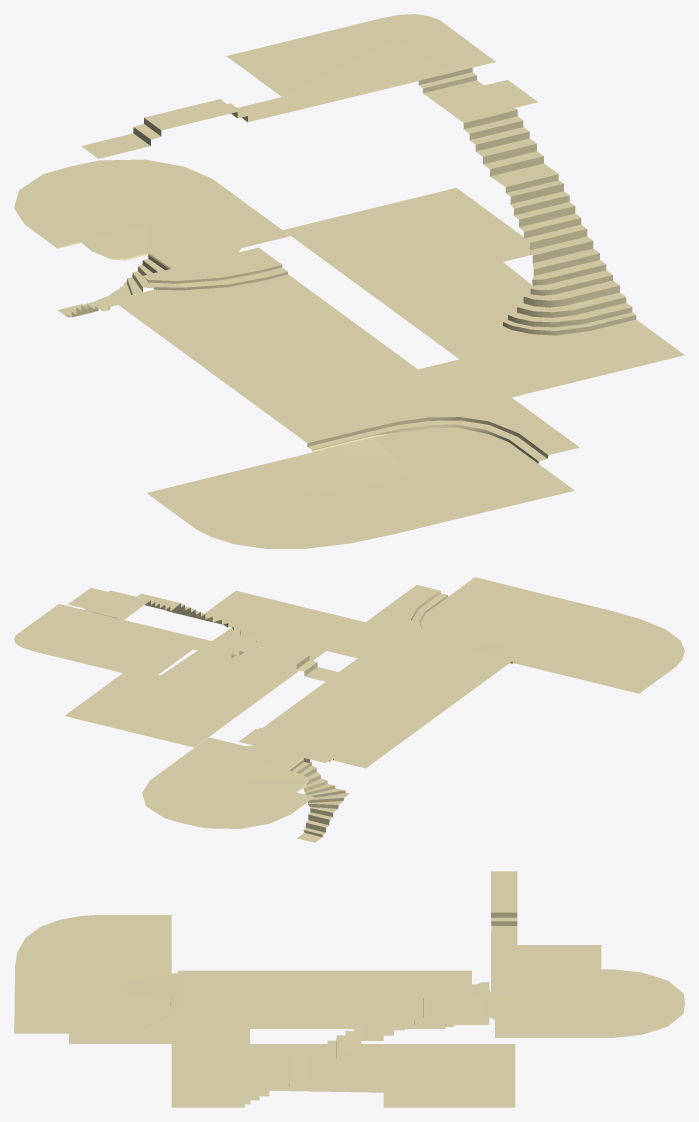
The model's file is Floor 1.fbx.
The picture shows the model from 3 angles, top to bottom: view 1: azimuth 30°, elevation 25°; view 2: azimuth 150°, elevation 25°; view 3: azimuth 270°, elevation 25°; orthographic projection. The views are drawn at different scales.
Visible parts, largest first — view 1: Floor; view 2: Floor; view 3: Floor.
Part boxes in pixels (box(x1,y1,x2,y2)): Floor: box(14, 14, 684, 548); Floor: box(14, 577, 684, 842); Floor: box(14, 871, 684, 1107).
Size of the model in its own units: 1386 by 474 by 1904.
